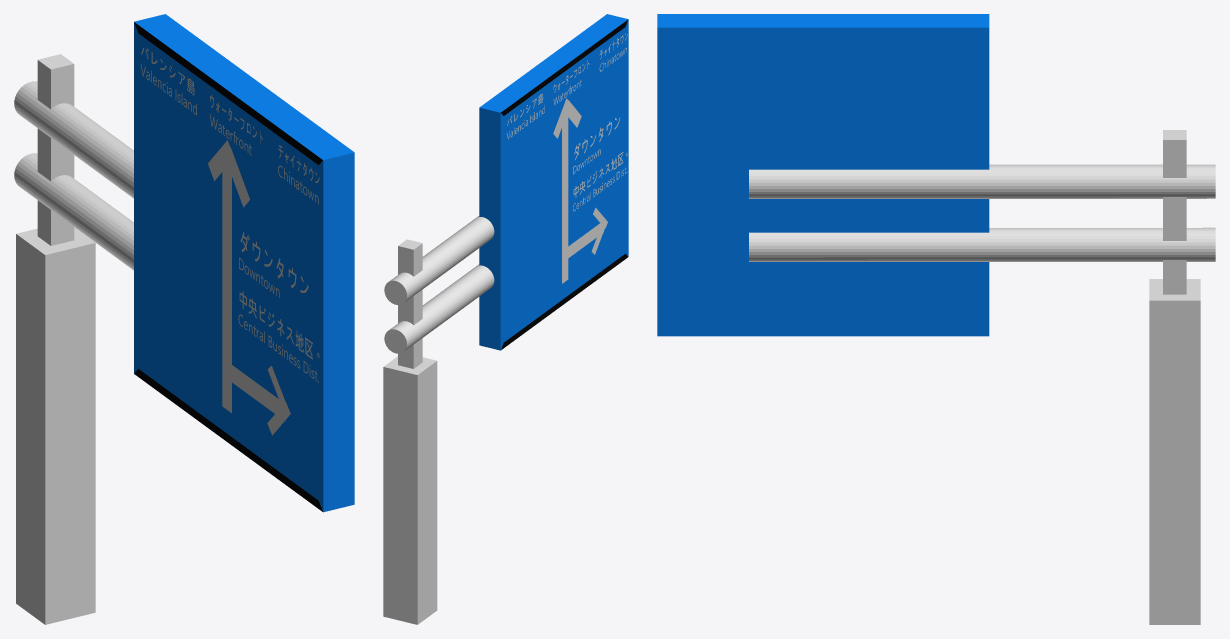
File: japantown_sign_3.fbx
3 renders of one model, left to right at view 1: azimuth 30°, elevation 25°; view 2: azimuth 150°, elevation 25°; view 3: azimuth 270°, elevation 25°, orthographic. The views are drawn at different scales.
Parts seen in each view (by area): view 1: Cube.003, Cube, Cylinder, Cylinder.001, Plane, Plane.001, Text.007, Plane.005; view 2: Cube.003, Cube, Cylinder.001, Cylinder, Plane, Plane.001; view 3: Cube.003, Cube, Cylinder, Cylinder.001.
Part boxes in pixels (x1,y1,x2,y2): Cube.003: [134, 14, 354, 512]; Cube: [16, 54, 95, 624]; Cylinder: [14, 81, 133, 198]; Cylinder.001: [14, 153, 133, 270]; Plane: [222, 165, 231, 413]; Plane.001: [232, 365, 285, 421]; Text.007: [239, 291, 319, 359]; Plane.005: [208, 140, 233, 180]; Cube.003: [479, 14, 628, 350]; Cube: [383, 239, 437, 624]; Cylinder.001: [384, 264, 494, 353]; Cylinder: [384, 216, 494, 304]; Plane: [562, 115, 568, 283]; Plane.001: [568, 223, 603, 257]; Cube.003: [657, 14, 989, 336]; Cube: [1149, 130, 1200, 624]; Cylinder: [749, 164, 1215, 198]; Cylinder.001: [749, 227, 1215, 261].
Bounding box in the file's own units: 6.54 × 76.11 × 65.5.
